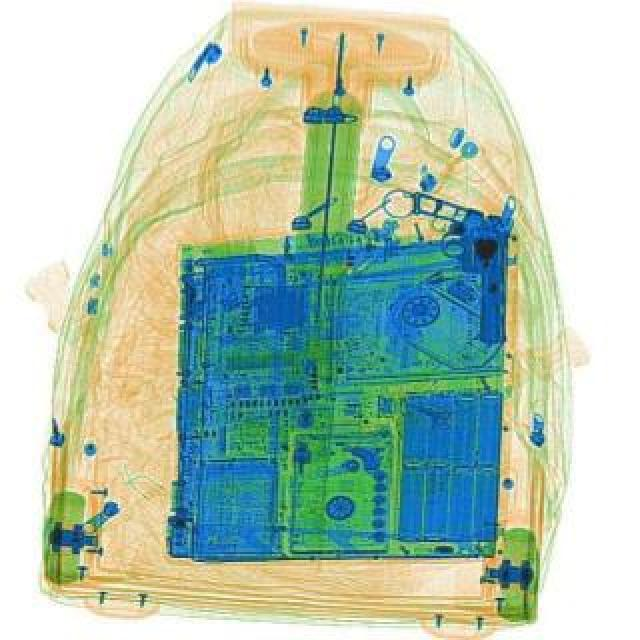gun: (398, 190, 518, 344)
